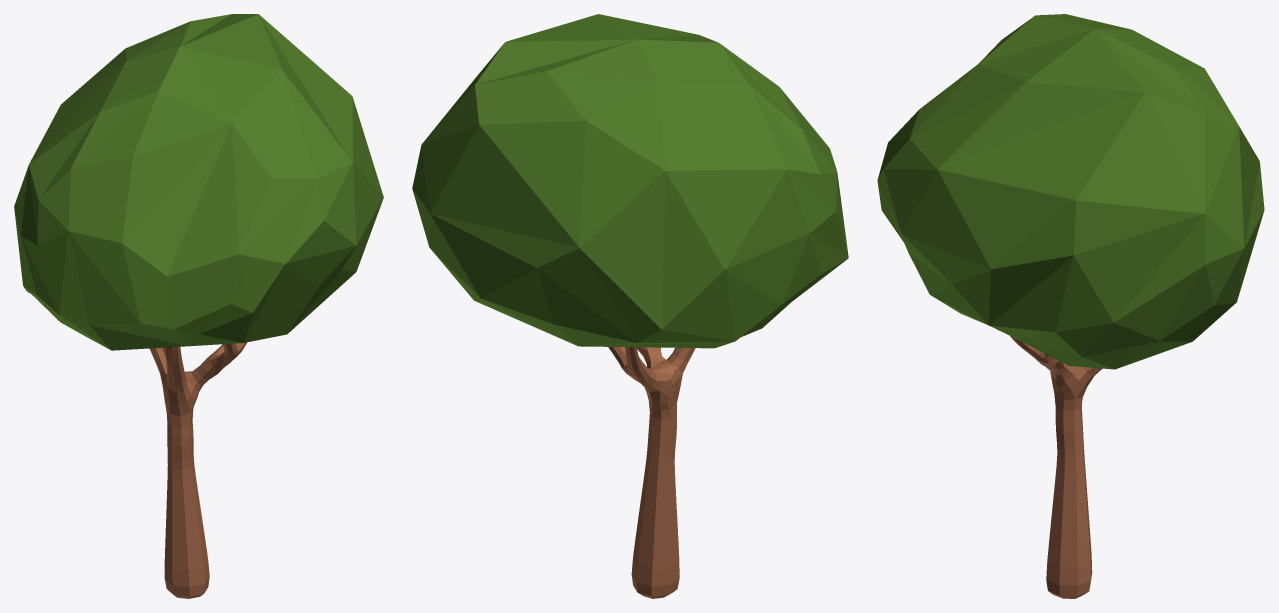
The model's file is -tree4.glb.
3 renders of one model, left to right at view 1: azimuth 30°, elevation 25°; view 2: azimuth 150°, elevation 25°; view 3: azimuth 270°, elevation 25°, orthographic. The views are drawn at different scales.
Visible parts, largest first — view 1: tree4; view 2: tree4; view 3: tree4.
Boxes of the visible parts, x1,y1,x2,y2 form: tree4: (14, 14, 383, 598); tree4: (412, 14, 848, 598); tree4: (877, 14, 1264, 598).
Bounding box in the file's own units: 1.47 × 2.21 × 1.37.
Materials: 2 (2 with a texture image).
